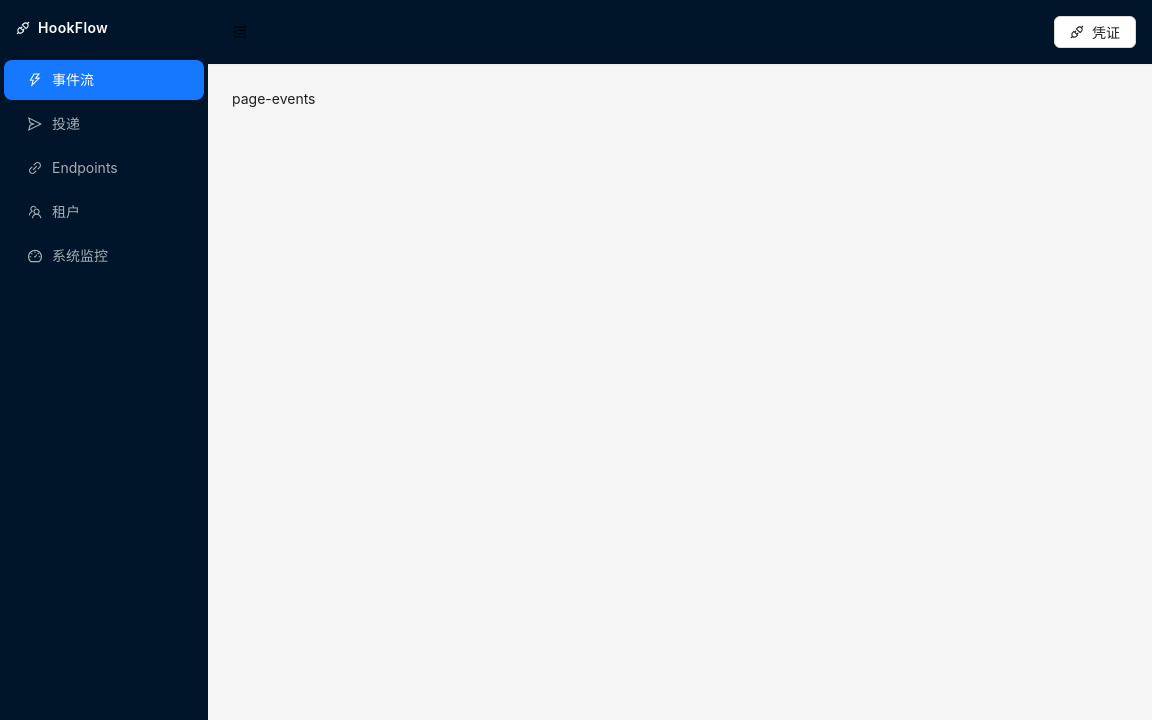
Test case: AppShell › opens the credential drawer from the header
This screenshot has width=1152, height=720.
Click the button "凭证" at (1095, 32), box [1054,16,1136,48]
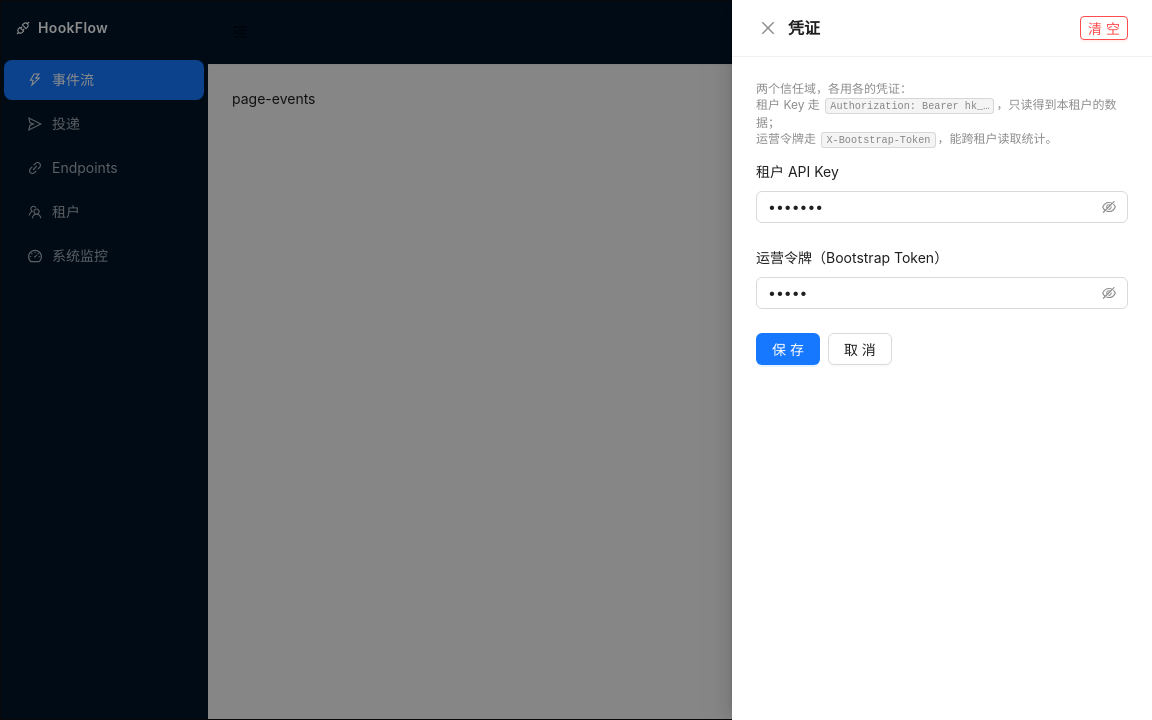
Check: the password field with placeholder "hk_xxxxxxxx_yyyy…" is shown, box [768,196,1098,218]
Check: the password field with placeholder "与 hookflow.admin.bootstrap-token 一致" is shown, box [768,282,1098,304]
